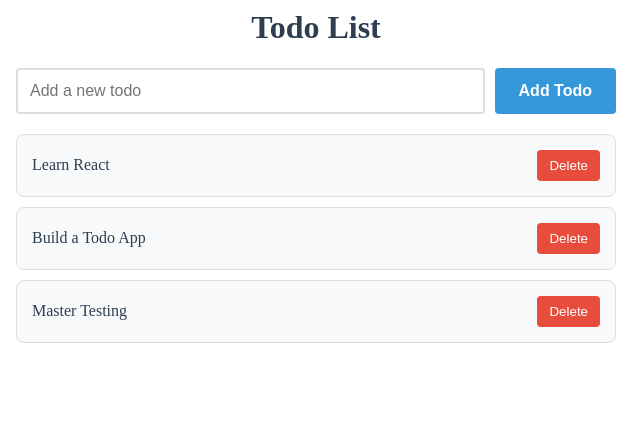
Test: TodoList Component › adds a new todo
Type "New Todo" into the field with test id "todo-input" at (250, 91), box [16,68,484,114]
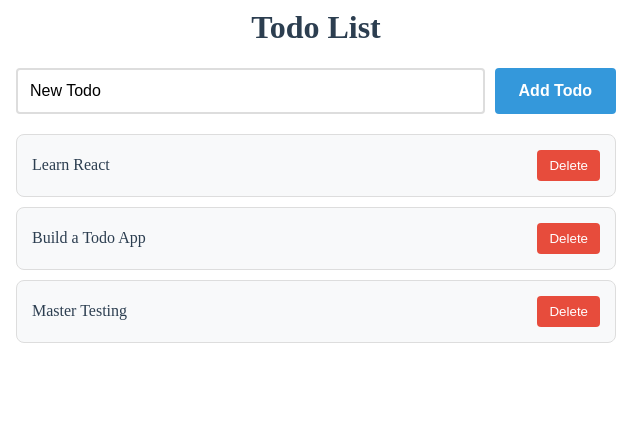
Click the button with test id "add-button" at (555, 91), box [494,68,616,114]
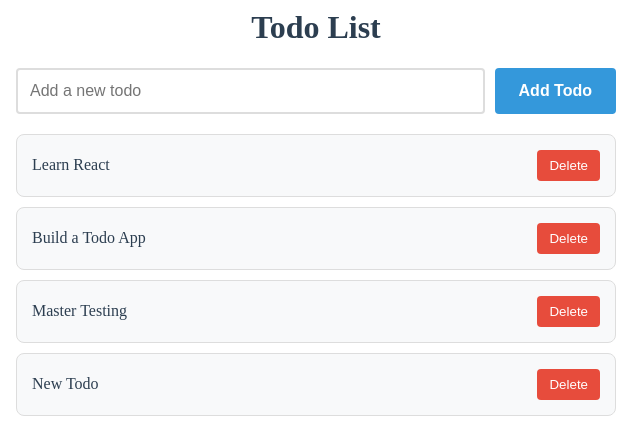
Result: the text "New Todo" is shown at [32,375,99,392]
